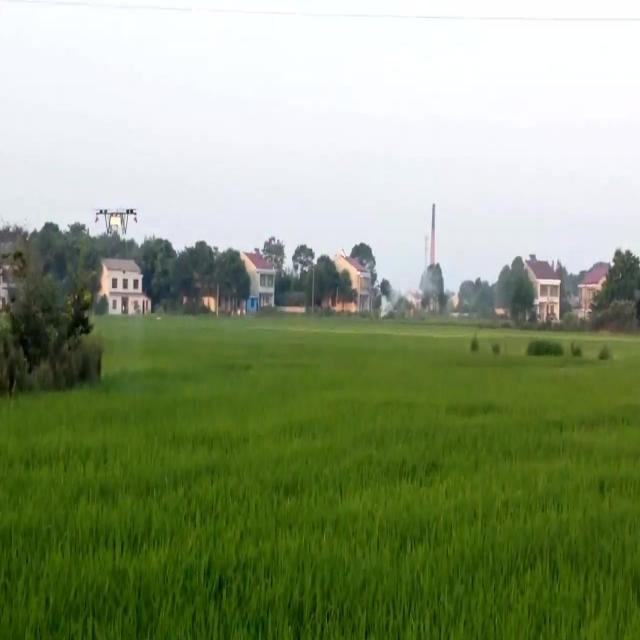UAV: (94, 208, 138, 236)
